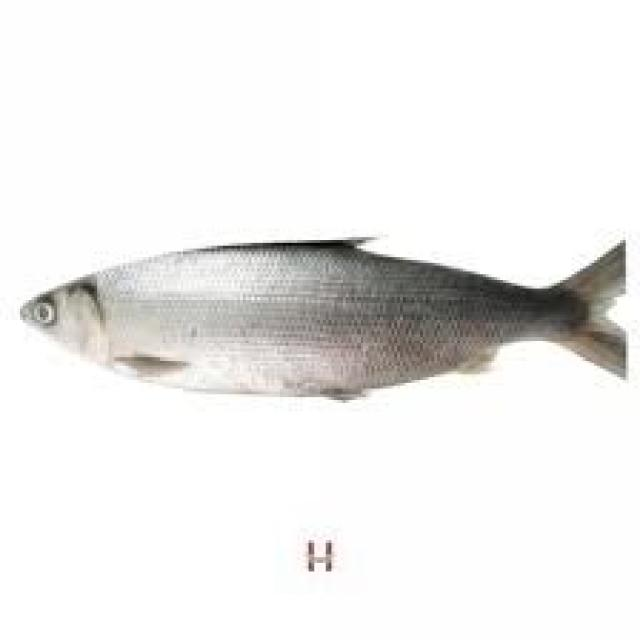Bangus: (17, 210, 640, 442)
